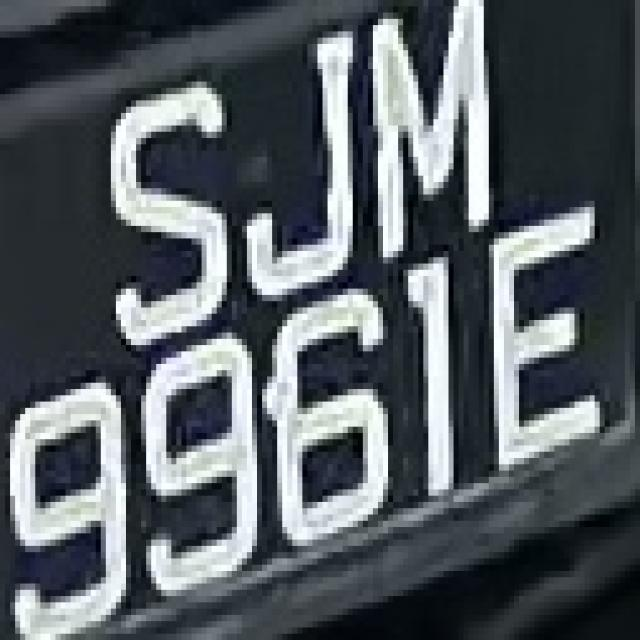1: (403, 238, 469, 514)
6: (262, 289, 398, 552)
9: (111, 327, 282, 602), (0, 351, 136, 634)
E: (464, 182, 610, 477)
J: (217, 19, 368, 282)
M: (343, 0, 504, 270)
S: (80, 75, 236, 345)
